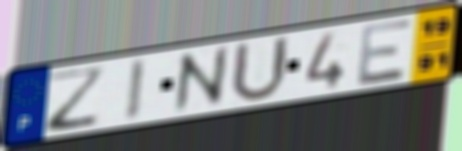4: (304, 29, 349, 91)
E: (356, 15, 416, 88)
I: (123, 56, 149, 124)
N: (172, 43, 231, 117)
U: (227, 34, 292, 105)
Z: (45, 62, 109, 135)
